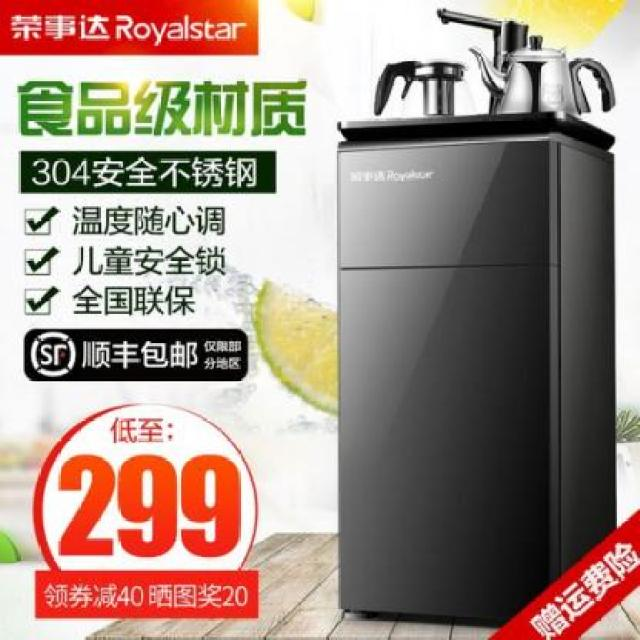cooler: (337, 4, 621, 624)
